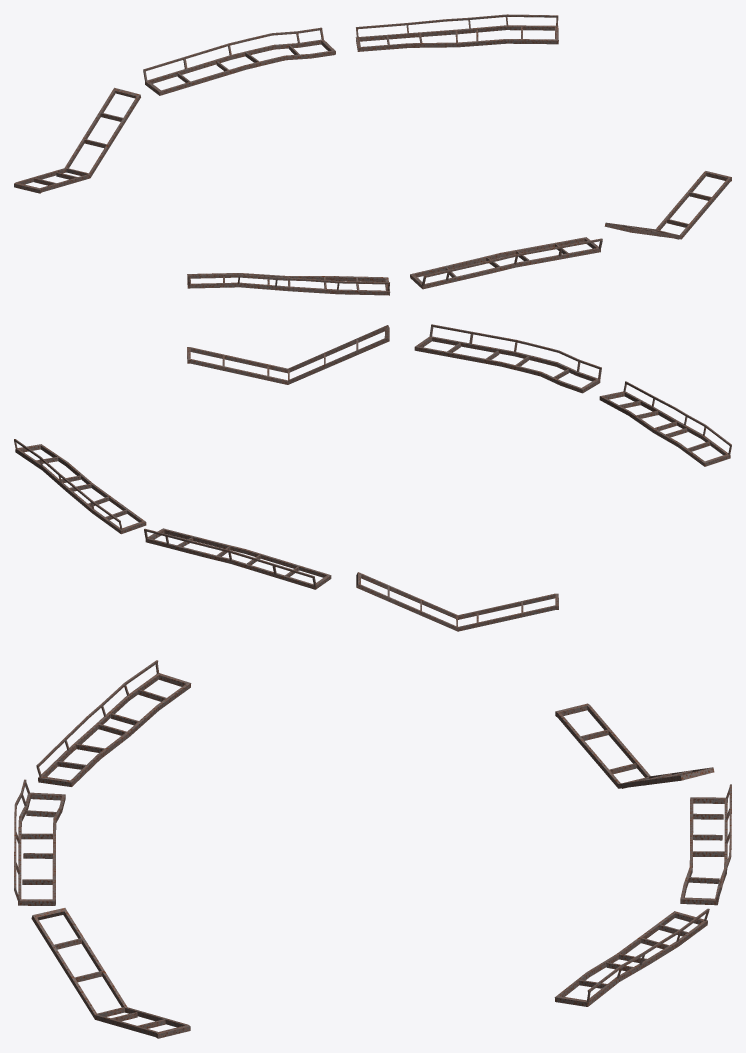
Rendered from SM_LDFest_25_Metal.fbx.
The picture shows the model from 3 angles, top to bottom: view 1: azimuth 30°, elevation 25°; view 2: azimuth 150°, elevation 25°; view 3: azimuth 270°, elevation 25°; orthographic projection. The views are drawn at different scales.
Visible parts, largest first — view 1: SM_LDFest_25_Metal; view 2: SM_LDFest_25_Metal; view 3: SM_LDFest_25_Metal.
Boxes of the visible parts, left/top/right/bottom form: SM_LDFest_25_Metal: left=14, top=14, right=731, bottom=295; SM_LDFest_25_Metal: left=14, top=324, right=731, bottom=631; SM_LDFest_25_Metal: left=14, top=660, right=731, bottom=1038.
Size of the model in its own units: 6890 by 738 by 6320.
